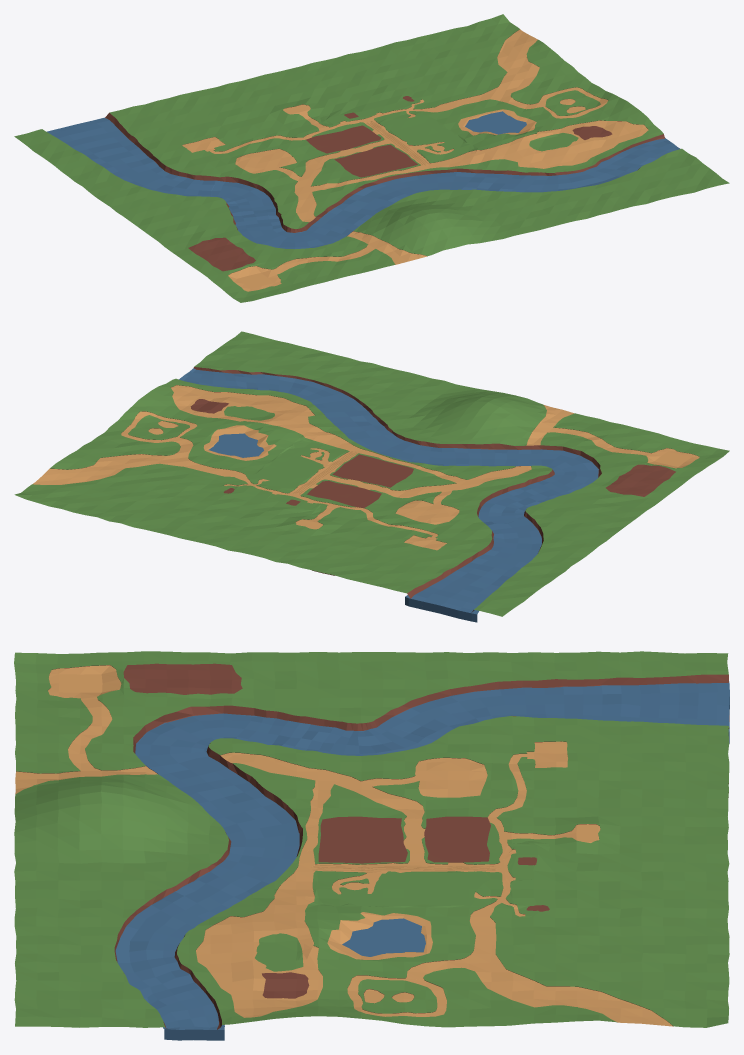
3 renders of one model, top to bottom at view 1: azimuth 30°, elevation 25°; view 2: azimuth 150°, elevation 25°; view 3: azimuth 270°, elevation 25°, orthographic. The views are drawn at different scales.
Visible parts, largest first — view 1: Main_base, River, Lake_water; view 2: Main_base, River, Lake_water; view 3: Main_base, River, Lake_water.
Boxes of the visible parts, x1,y1,x2,y2 form: Main_base: (14, 14, 729, 302); River: (47, 117, 680, 249); Lake_water: (465, 111, 526, 134); Main_base: (14, 331, 729, 616); River: (179, 368, 598, 622); Lake_water: (209, 433, 263, 457); Main_base: (14, 651, 729, 1029); River: (115, 681, 729, 1040); Lake_water: (342, 918, 425, 956).
Bounding box in the file's own units: 33077 × 1830 × 26655.
